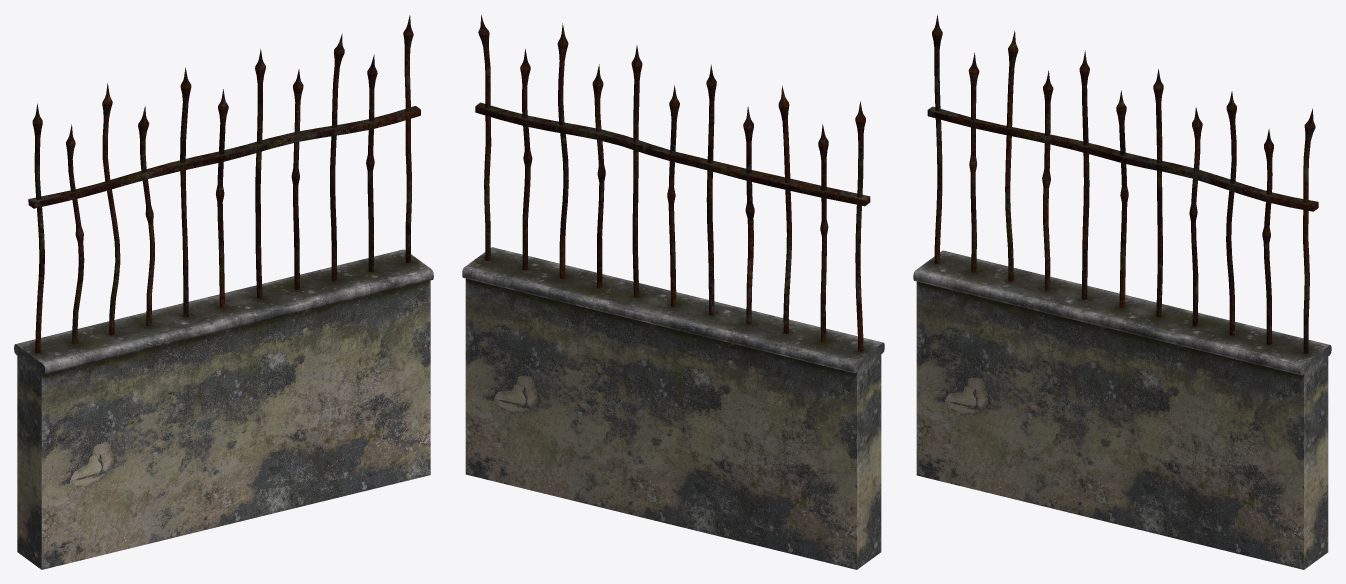
File: SM_fence_32.fbx
The picture shows the model from 3 angles, left to right: view 1: azimuth 30°, elevation 25°; view 2: azimuth 150°, elevation 25°; view 3: azimuth 330°, elevation 25°; orthographic projection.
Parts seen in each view (by area): view 1: SM_fence_32; view 2: SM_fence_32; view 3: SM_fence_32.
Boxes of the visible parts, x1,y1,x2,y2 form: SM_fence_32: (14, 15, 433, 569); SM_fence_32: (462, 15, 884, 569); SM_fence_32: (913, 14, 1331, 569).
Bounding box in the file's own units: 341 × 382 × 46.92.
